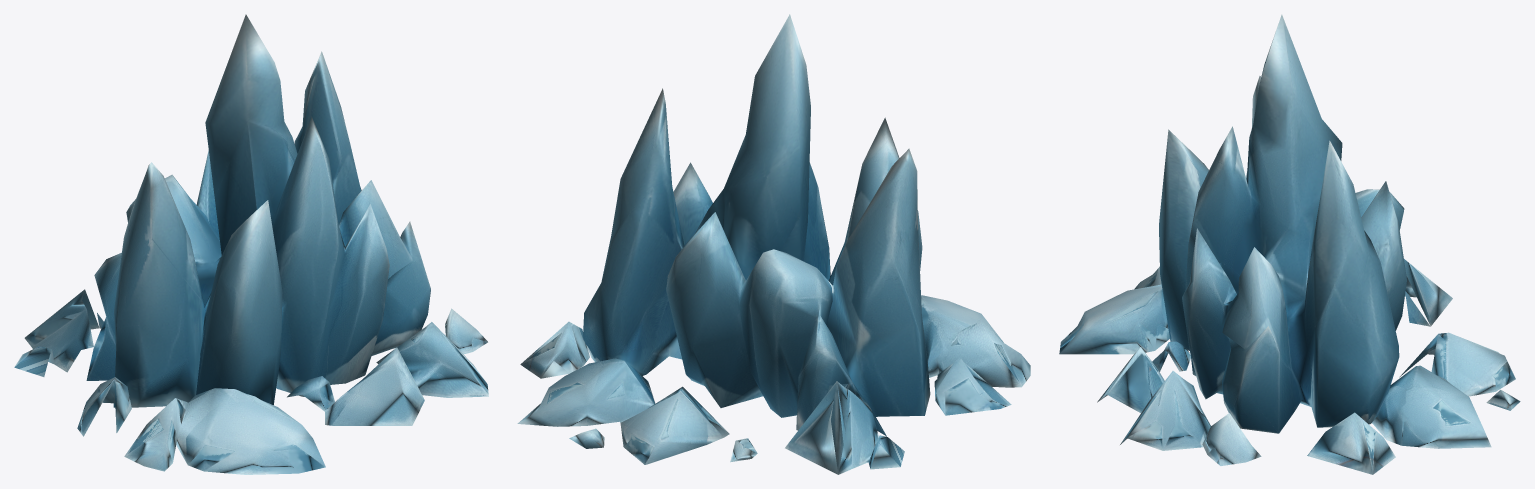
The model's file is ice_spikes.glb.
3 renders of one model, left to right at view 1: azimuth 30°, elevation 25°; view 2: azimuth 150°, elevation 25°; view 3: azimuth 270°, elevation 25°, orthographic. The views are drawn at different scales.
Bounding box in the file's own units: 1.89 × 1.6 × 1.88.
1 material, 1 textured.
